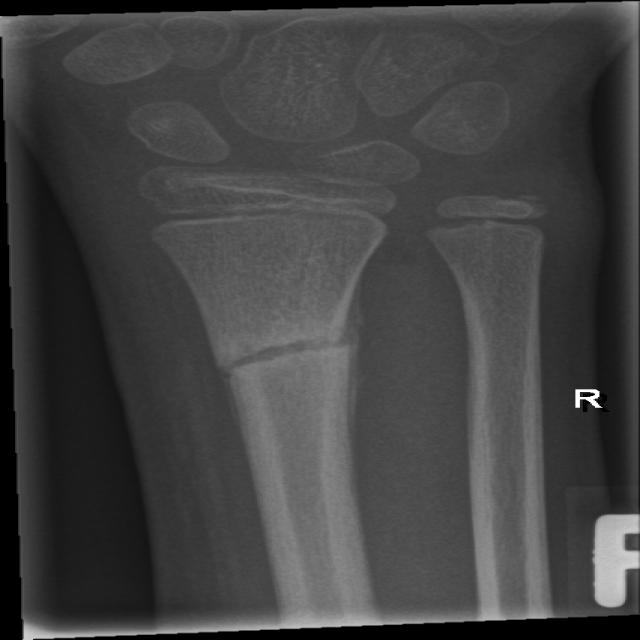radius fracture: (152, 295, 401, 428)
